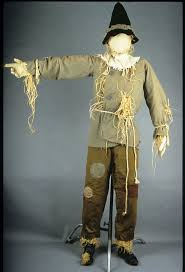person-like: (2, 3, 175, 269)
